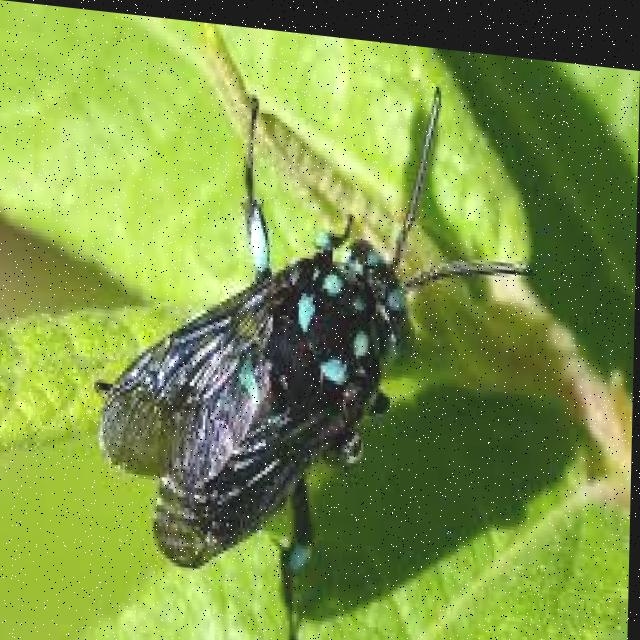Thyreus: (106, 49, 478, 586)
